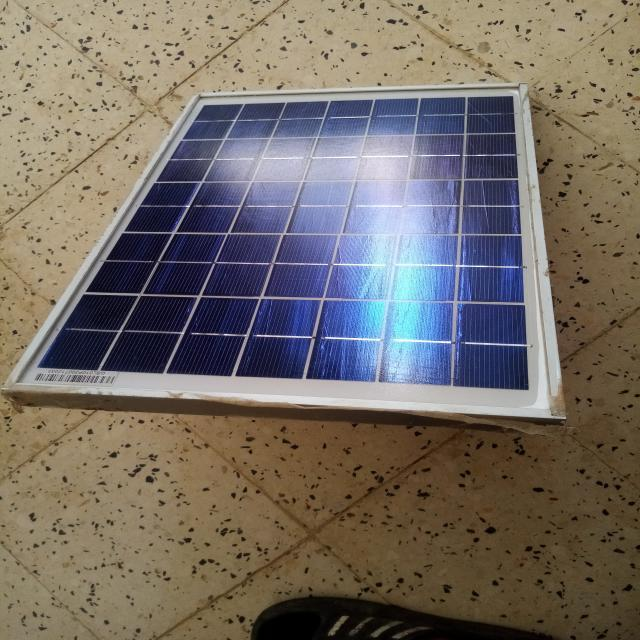no faulty: (6, 85, 566, 422)
